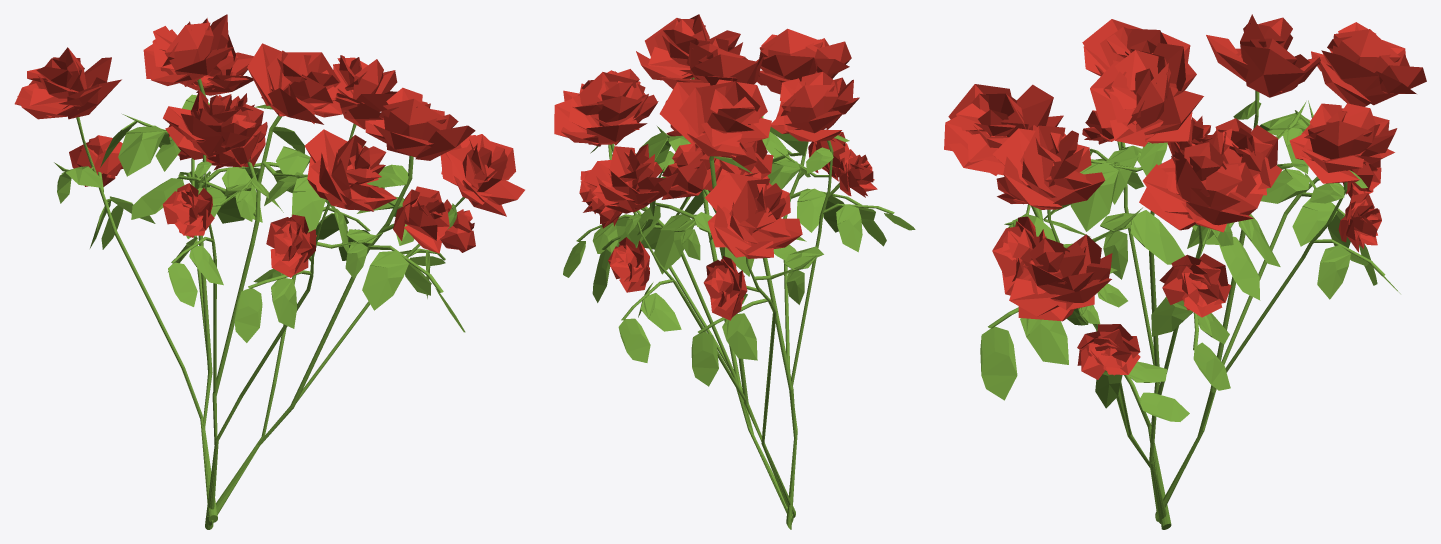
The picture shows the model from 3 angles, left to right: view 1: azimuth 30°, elevation 25°; view 2: azimuth 150°, elevation 25°; view 3: azimuth 270°, elevation 25°; orthographic projection. The views are drawn at different scales.
Visible parts, largest first — view 1: node_MeshObject1316269440-PolyPaper9, node_MeshObject-1422537664-PolyPaper9; view 2: node_MeshObject-1422537664-PolyPaper9, node_MeshObject1316269440-PolyPaper9, node_MeshObject1390298880-PolyPaper9; view 3: node_MeshObject-1422537664-PolyPaper9, node_MeshObject1316269440-PolyPaper9, node_MeshObject1390298880-PolyPaper9.
Part boxes in pixels (x1,y1,x2,y2): node_MeshObject1316269440-PolyPaper9: (131,43,413,529); node_MeshObject-1422537664-PolyPaper9: (14,14,524,522); node_MeshObject-1422537664-PolyPaper9: (563,14,823,517); node_MeshObject1316269440-PolyPaper9: (554,28,915,529); node_MeshObject1390298880-PolyPaper9: (618,214,673,362); node_MeshObject-1422537664-PolyPaper9: (980,14,1426,521); node_MeshObject1316269440-PolyPaper9: (944,19,1263,529); node_MeshObject1390298880-PolyPaper9: (1309,170,1400,299).
Size of the model in its own units: 2.46 by 3.04 by 2.54.
